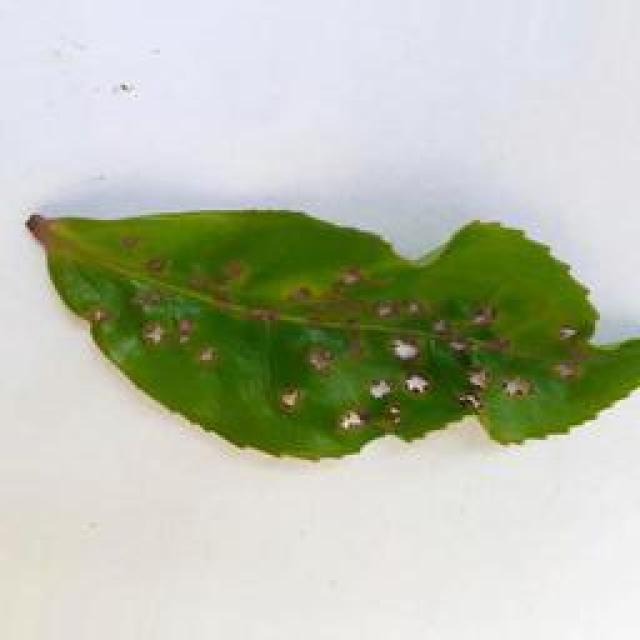Helopeltis: (18, 193, 638, 468)
